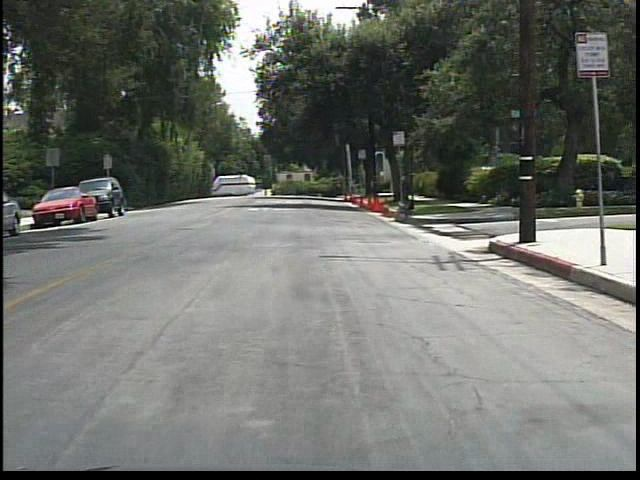person: (392, 191, 422, 225)
